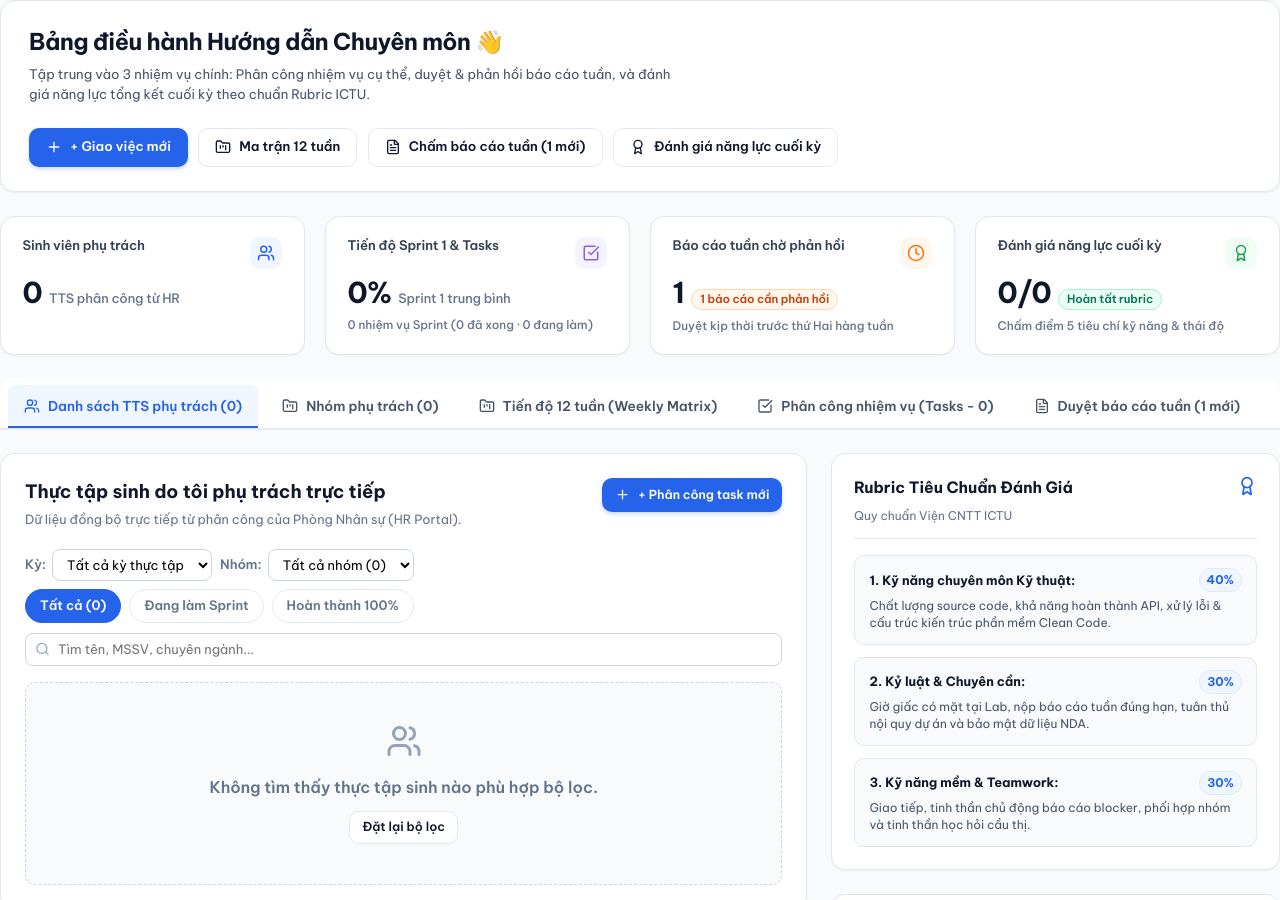
MentorDashboardPage Task Binding & Border Test Suite › Chuyển sang Tab Ma trận Tiến độ 12 tuần hiển thị bảng 12 cột và mở modal chấm điểm
Click the button "Tiến độ 12 tuần (Weekly Matrix)". click: (598, 407)
box: [462,385,733,428]
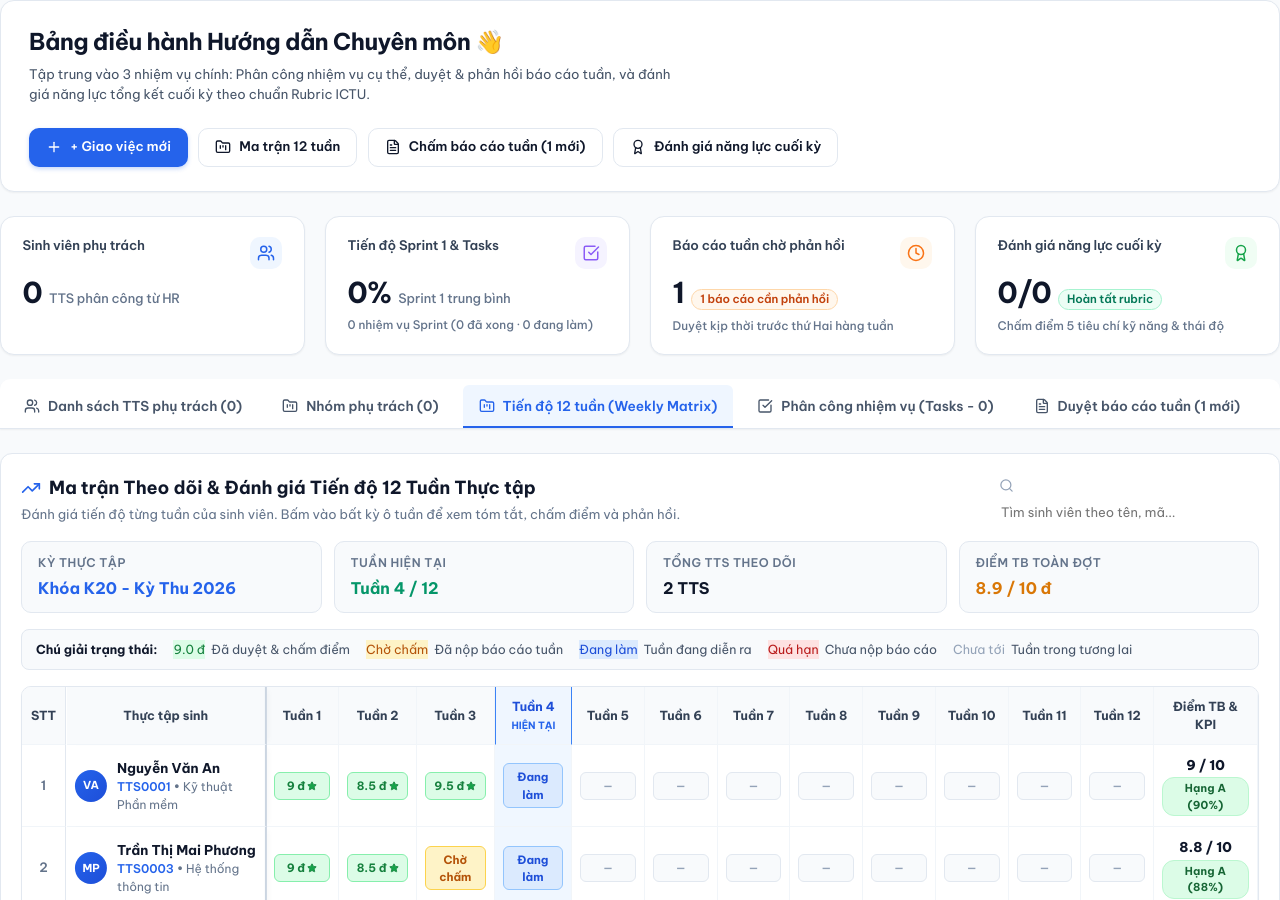
Expected: the heading "Ma trận Theo dõi & Đánh giá Tiến độ 12 Tuần Thực tập" is shown, [49,474,536,501]
Expected: the text "Tuần 1" is shown, [282,707,322,723]
Expected: the text "Tuần 12" is shown, [1094,707,1141,723]
Click the button "Đang làm" in the row of "VA". click: (533, 786)
box: [503,763,563,808]
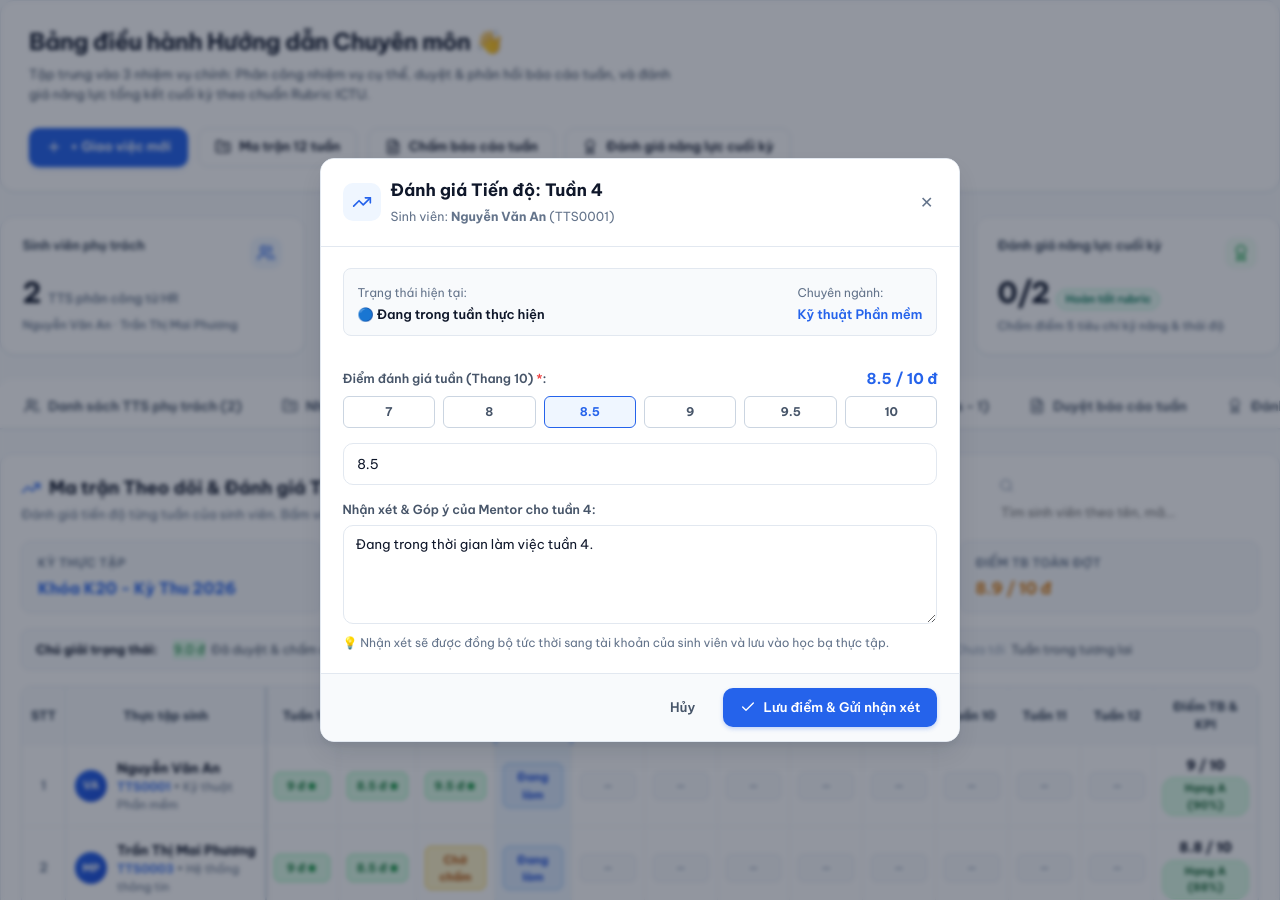
Expected: the heading "Đánh giá Tiến độ: Tuần 4" is shown, [391,178,614,203]
Expected: the button "Lưu điểm & Gửi nhận xét" is shown, [723,688,937,727]
